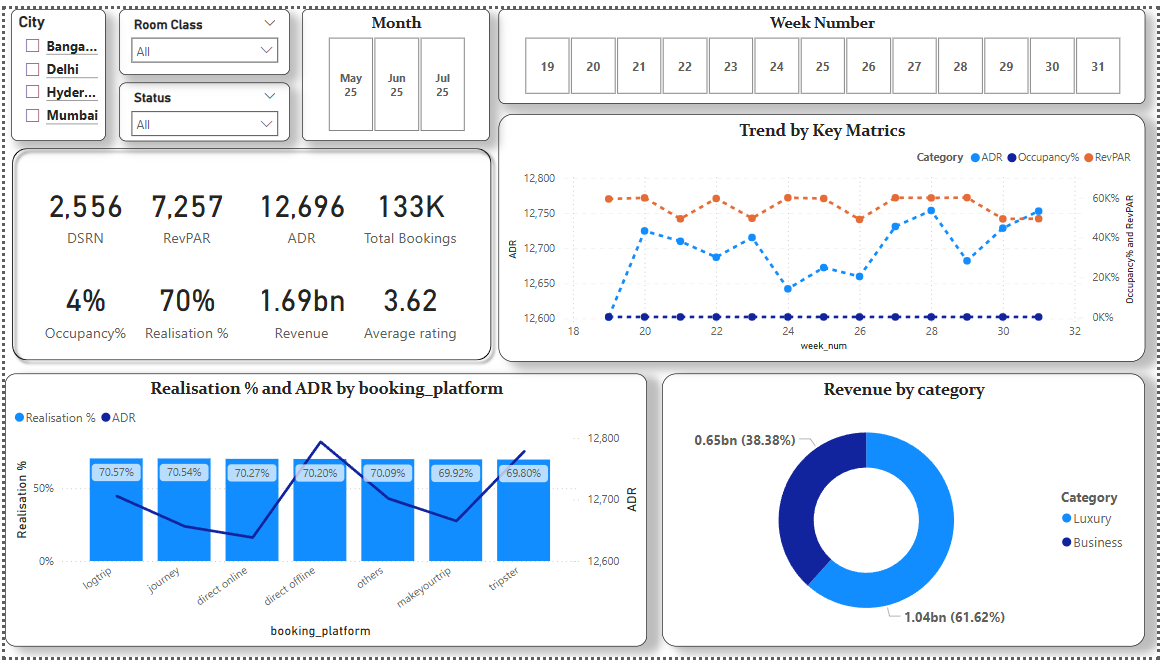

The dashboard page shown, as its layout file describes it:
{"tool":"powerbi","page":{"name":"Dashboard","canvas":[1280,720],"ordinal":1},"visuals":[{"type":"shape","box":[0,146.7,548.3,251.7],"z":0},{"type":"lineStackedColumnComboChart","fields":{"Category":["fact_bookings.booking_platform"],"Y":["Key Measures.Realisation %"],"Y2":["Key Measures.ADR"]},"box":[0,405,713.3,303.3],"z":1000},{"type":"donutChart","fields":{"Y":["Key Measures.Revenue"],"Category":["dim_hotels.category"]},"box":[730,405,536.7,303.3],"z":2000},{"type":"card","fields":{"Values":["Key Measures.Occupancy%"]},"box":[31.7,285,115,93.3],"z":3000},{"type":"card","fields":{"Values":["Key Measures.Realisation %"]},"box":[146.7,285,110,93.3],"z":4000},{"type":"card","fields":{"Values":["Key Measures.Revenue"]},"box":[273.3,285,111.7,93.3],"z":5000},{"type":"card","fields":{"Values":["Key Measures.DSRN"]},"box":[31.7,180,115,93.3],"z":6000},{"type":"card","fields":{"Values":["Key Measures.RevPAR"]},"box":[146.7,180,110,93.3],"z":7000},{"type":"card","fields":{"Values":["Key Measures.ADR"]},"box":[273.3,180,111.7,93.3],"z":8000},{"type":"slicer","title":"Week Number","fields":{"Values":["dim_date.week_num"]},"box":[548.3,0,718.3,105],"z":9000},{"type":"lineChart","title":"Trend by Key Matrics","fields":{"Y2":["Key Measures.Occupancy%","Key Measures.RevPAR"],"Category":["dim_date.week_num"],"Y":["Key Measures.ADR"]},"box":[548.3,116.7,718.3,275],"z":10000},{"type":"card","fields":{"Values":["Key Measures.Total Bookings"]},"box":[385,180,130,93.3],"z":11000},{"type":"card","fields":{"Values":["Key Measures.Average rating"]},"box":[385,285,130,93.3],"z":12000},{"type":"slicer","title":"Month","fields":{"Values":["dim_date.mmm yy"]},"box":[330,0,208.3,146.7],"z":13000},{"type":"slicer","title":"dfs","fields":{"Values":["fact_bookings.booking_status"]},"box":[126.9,81.5,190,65.4],"z":14000},{"type":"slicer","title":"dfs","fields":{"Values":["dim_rooms.room_class"]},"box":[126.9,0,190,73.1],"z":15000},{"type":"slicer","title":"City","fields":{"Values":["dim_hotels.city"]},"box":[6.2,0,105.4,146.9],"z":16000}]}

Visuals, with their boxes in screenshot pixels (x1, y1, x2, y2), scaled from the page's 1280x720 canvas onto the 1161x664 screenshot:
shape: (left=0, top=135, right=497, bottom=367)
lineStackedColumnComboChart - fact_bookings.booking_platform x Key Measures.Realisation %: (left=0, top=374, right=647, bottom=653)
donutChart - Key Measures.Revenue x dim_hotels.category: (left=662, top=374, right=1149, bottom=653)
card - Key Measures.Occupancy%: (left=29, top=263, right=133, bottom=349)
card - Key Measures.Realisation %: (left=133, top=263, right=233, bottom=349)
card - Key Measures.Revenue: (left=248, top=263, right=349, bottom=349)
card - Key Measures.DSRN: (left=29, top=166, right=133, bottom=252)
card - Key Measures.RevPAR: (left=133, top=166, right=233, bottom=252)
card - Key Measures.ADR: (left=248, top=166, right=349, bottom=252)
"Week Number" slicer: (left=497, top=0, right=1149, bottom=97)
"Trend by Key Matrics" lineChart: (left=497, top=108, right=1149, bottom=361)
card - Key Measures.Total Bookings: (left=349, top=166, right=467, bottom=252)
card - Key Measures.Average rating: (left=349, top=263, right=467, bottom=349)
"Month" slicer: (left=299, top=0, right=488, bottom=135)
"dfs" slicer: (left=115, top=75, right=287, bottom=135)
"dfs" slicer: (left=115, top=0, right=287, bottom=67)
"City" slicer: (left=6, top=0, right=101, bottom=135)
